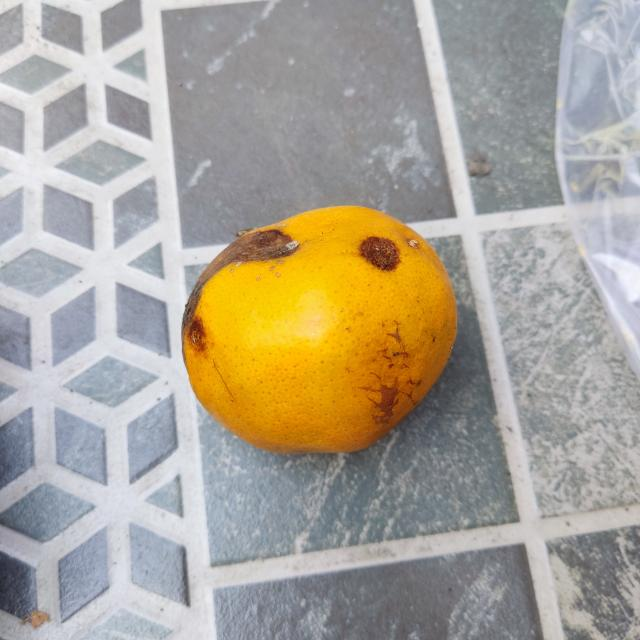orange: (173, 201, 461, 461)
